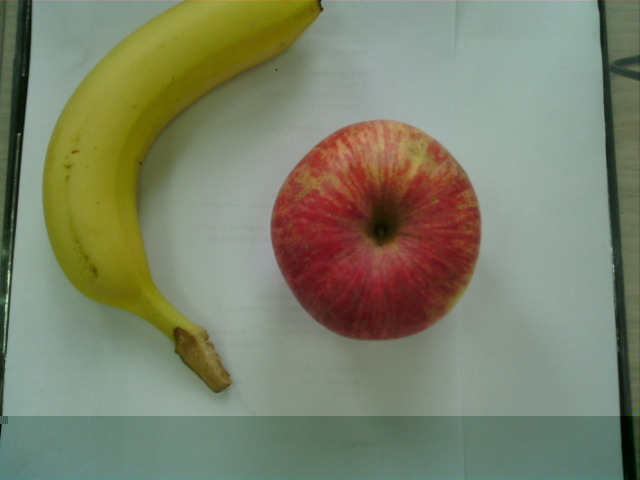normal_apple: (270, 121, 483, 343)
normal_banana: (45, 1, 318, 390)
